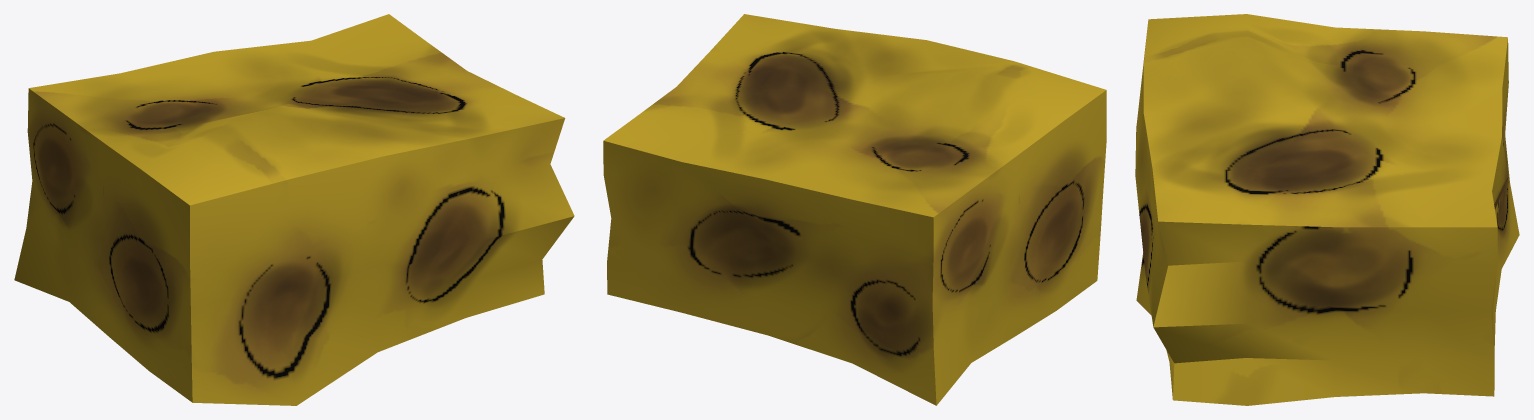
Rendered from Sponge.fbx.
3 views of the same model, side by side, from view 1: azimuth 30°, elevation 25°; view 2: azimuth 150°, elevation 25°; view 3: azimuth 270°, elevation 25° (orthographic). The views are drawn at different scales.
Visible parts, largest first — view 1: Sponge; view 2: Sponge; view 3: Sponge.
Boxes of the visible parts, x1,y1,x2,y2 form: Sponge: [14, 14, 574, 405]; Sponge: [603, 14, 1106, 405]; Sponge: [1135, 14, 1519, 405].
Bounding box in the file's own units: 32.34 × 26.46 × 19.75.
Materials: 1 (1 with a texture image).
